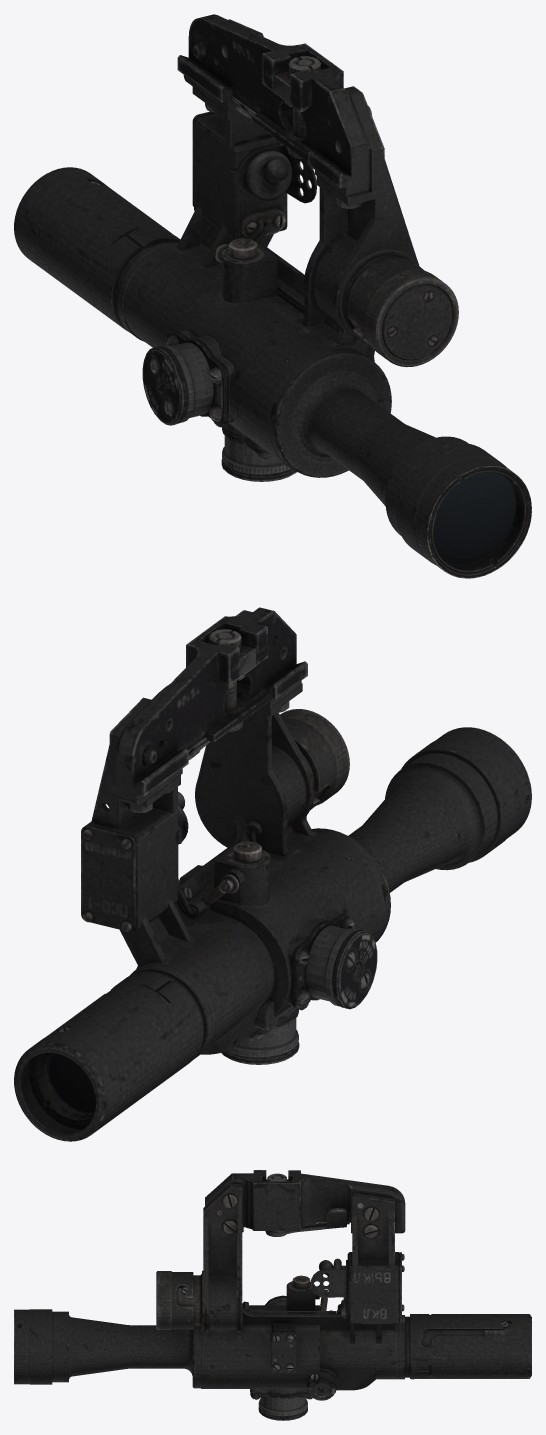
3 renders of one model, top to bottom at view 1: azimuth 30°, elevation 25°; view 2: azimuth 150°, elevation 25°; view 3: azimuth 270°, elevation 25°, orthographic. The views are drawn at different scales.
Visible parts, largest first — view 1: TW_5c82342f2e221644f31c060e_PZ_Import; view 2: TW_5c82342f2e221644f31c060e_PZ_Import; view 3: TW_5c82342f2e221644f31c060e_PZ_Import.
Part boxes in pixels (<box>): TW_5c82342f2e221644f31c060e_PZ_Import: <box>14,14,531,578</box>; TW_5c82342f2e221644f31c060e_PZ_Import: <box>14,607,531,1141</box>; TW_5c82342f2e221644f31c060e_PZ_Import: <box>14,1170,531,1420</box>.
Size of the model in its own units: 0.0405 by 0.1488 by 0.0781.
1 material, 1 textured.
